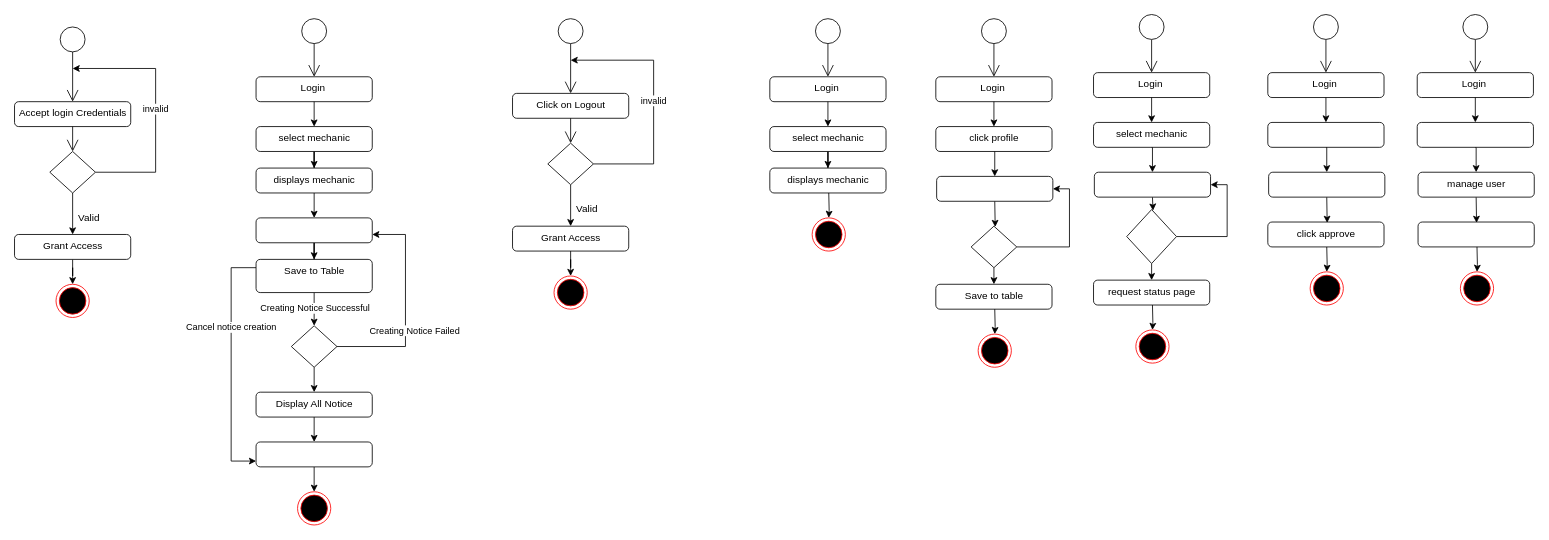
Image size: 1549x540. Some labels were removed from this diagram. Here are the shapes that lost their labels. From the top down, the centre of each, then its label:
At point 1325,134: "click request".
At point 1474,134: "select user".
At point 994,188: "fill the form and submit".
At point 1152,184: "request mechanic".
At point 1326,184: "select a request".
At point 313,230: "Submit form".
At point 993,246: "form valid?".
At point 1151,236: "successful ?".
At point 1475,234: "Save changes".
At point 313,454: "Logout".
